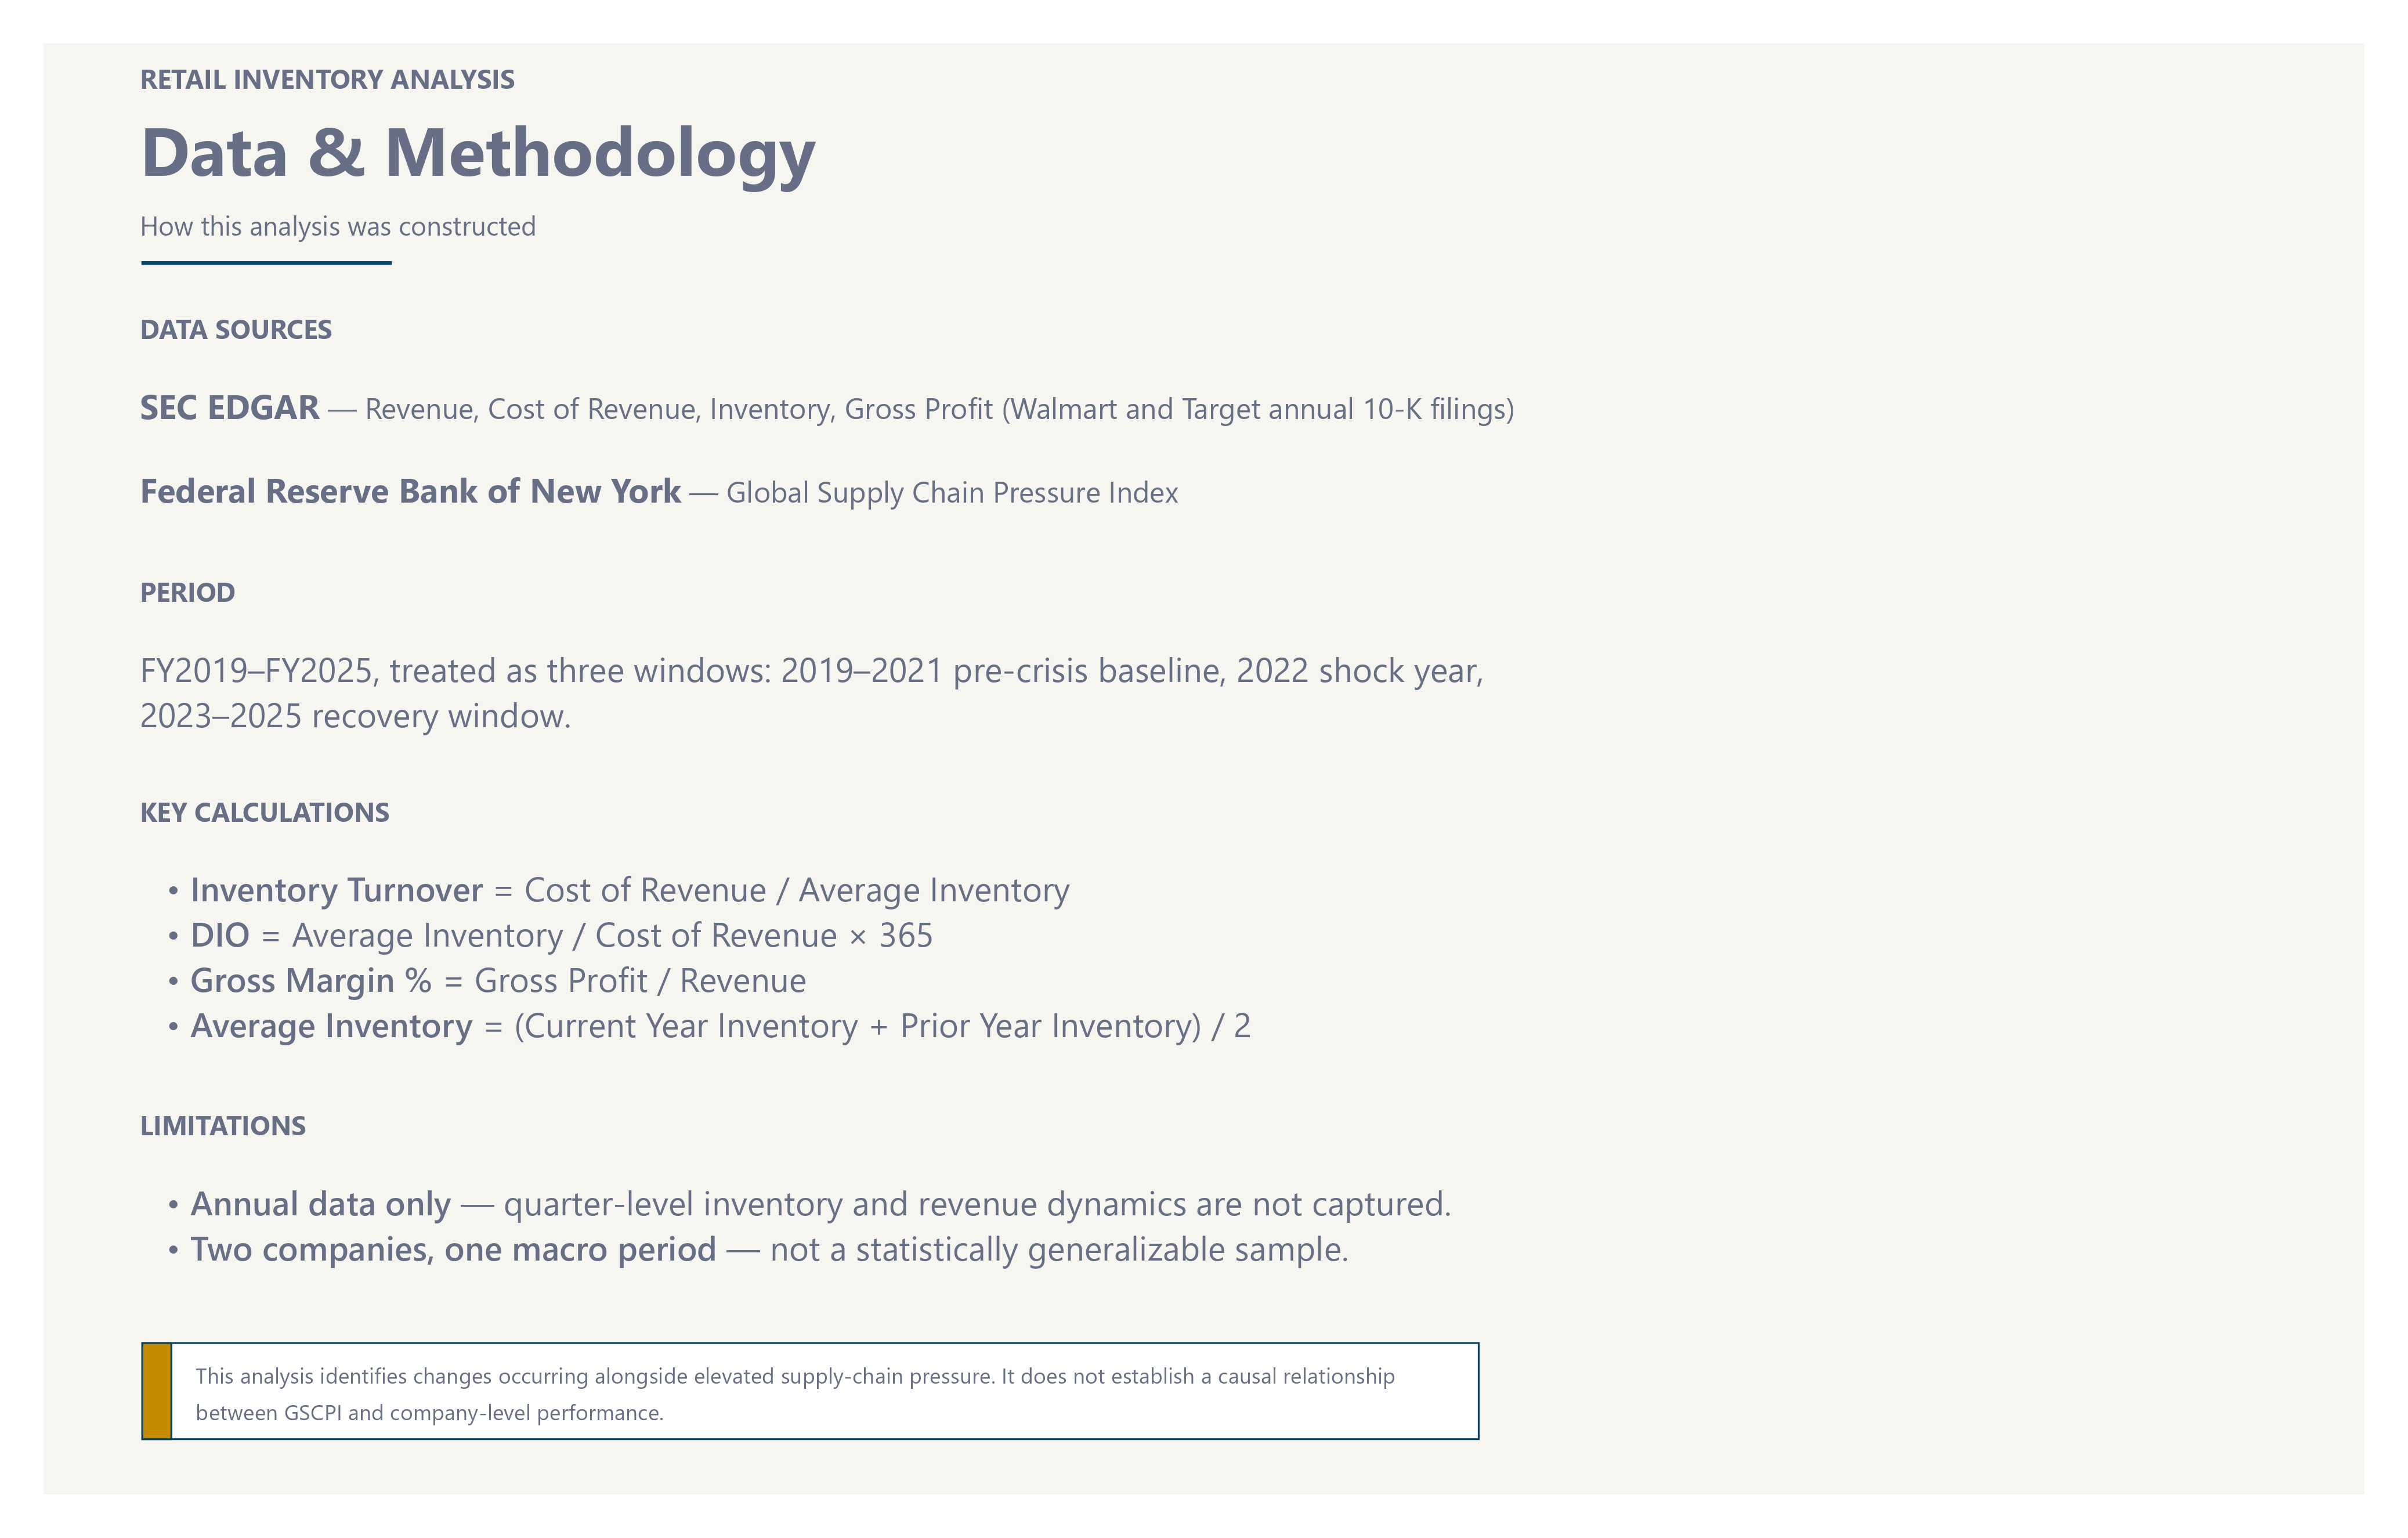

The page's visual inventory and layout, read from the dashboard file:
{"tool":"powerbi","page":{"name":"Data & Methodology","canvas":[1280,800],"ordinal":3},"visuals":[{"type":"group","id":"g1","title":"Group 1","box":[48,4,687,138],"z":0},{"type":"shape","box":[54,716,738,54],"z":0,"group":"g2"},{"type":"textbox","box":[48,142,772,123],"z":1000},{"type":"shape","box":[54,716,17,54],"z":1000,"group":"g2"},{"type":"textbox","box":[48,287,772,102],"z":2000},{"type":"textbox","box":[48,408,625,151],"z":3000},{"type":"textbox","box":[48,4,222,31],"z":4000,"group":"g1"},{"type":"textbox","box":[48,581,744,109],"z":4000},{"type":"textbox","box":[48,28,438,64],"z":5000,"group":"g1"},{"type":"group","id":"g2","title":"Group 2","box":[54,716,738,54],"z":5000},{"type":"textbox","box":[48,85,687,31],"z":6000,"group":"g1"},{"type":"textbox","box":[79,718,709,52],"z":6000},{"type":"shape","box":[54,100,138,42],"z":7000,"group":"g1"}]}

Visuals, with their boxes on the page's 1280x800 design canvas (x1, y1, x2, y2). These are canvas units, not pixel positions in the 2408x1538 screenshot, which may show the page scaled, cropped or inside an application window:
"Group 1" group: locate(48, 4, 735, 142)
shape: locate(54, 716, 792, 770)
textbox: locate(48, 142, 820, 265)
shape: locate(54, 716, 71, 770)
textbox: locate(48, 287, 820, 389)
textbox: locate(48, 408, 673, 559)
textbox: locate(48, 4, 270, 35)
textbox: locate(48, 581, 792, 690)
textbox: locate(48, 28, 486, 92)
"Group 2" group: locate(54, 716, 792, 770)
textbox: locate(48, 85, 735, 116)
textbox: locate(79, 718, 788, 770)
shape: locate(54, 100, 192, 142)
